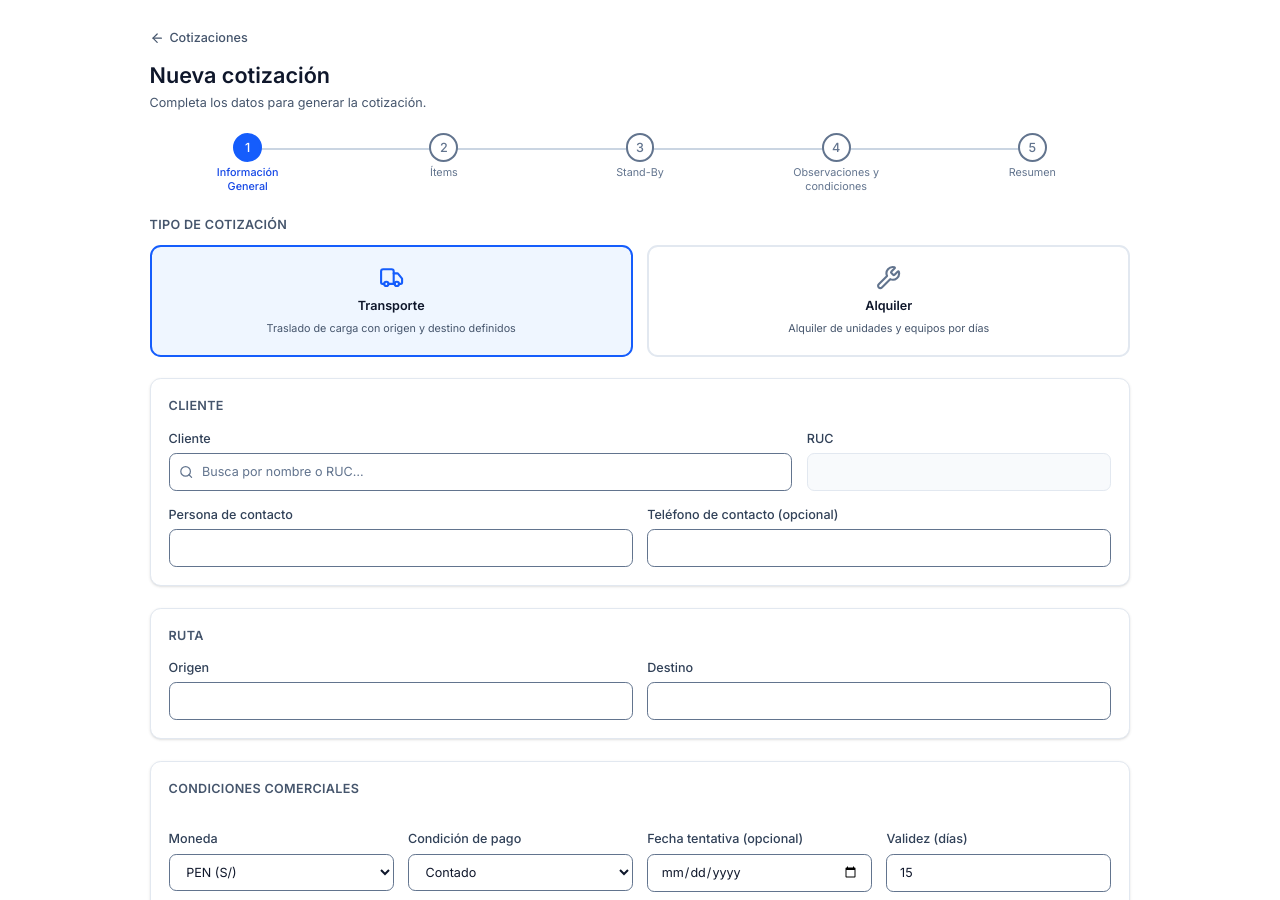
CotizacionWizardPage › al seleccionar un cliente precarga el contacto
This screenshot has width=1280, height=900.
Type "acme" into the dropdown labelled "Cliente".
click(480, 472); type("acme")  # box [169,453,792,491]
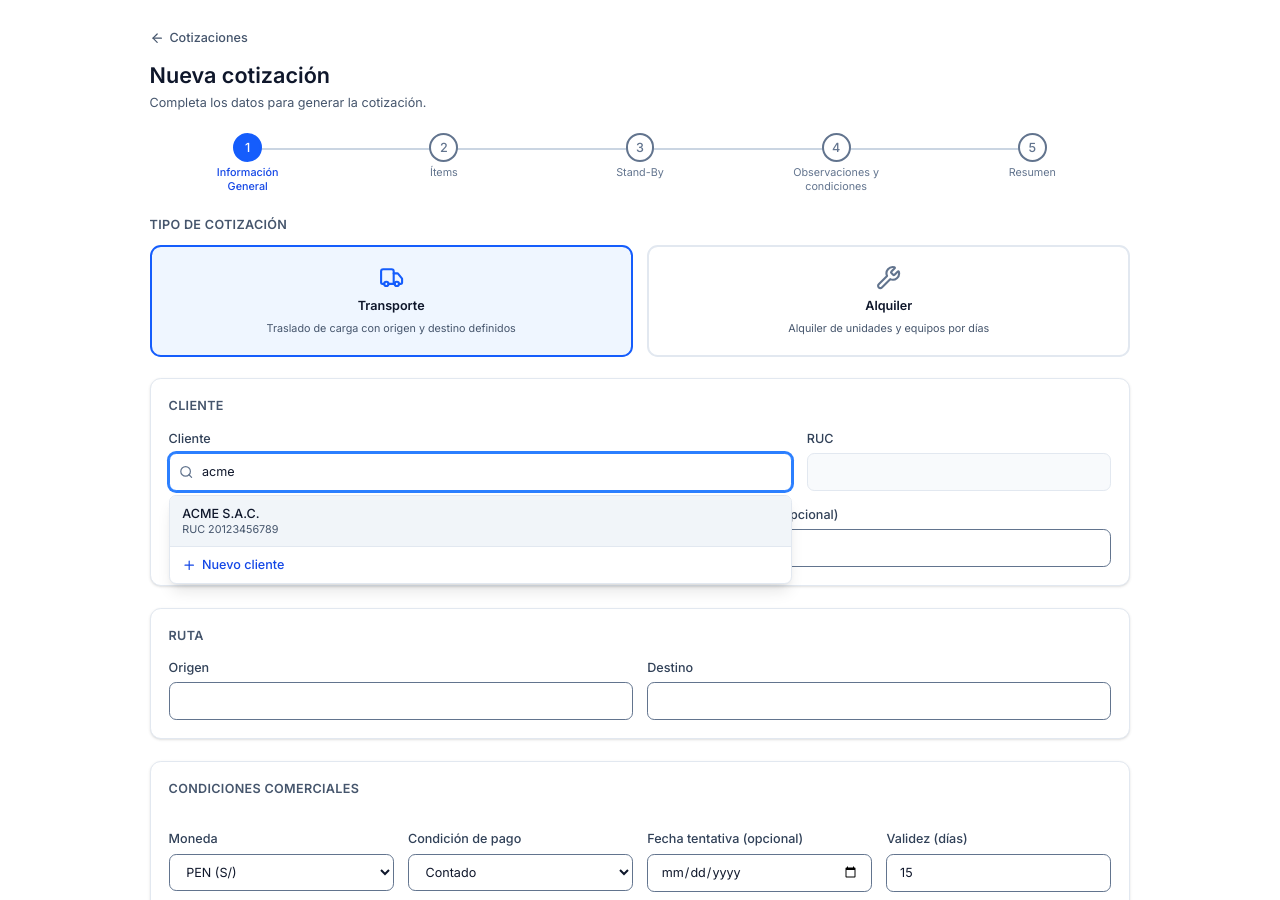
Click the text "ACME S.A.C.".
click(221, 513)  # box [182,506,260,521]
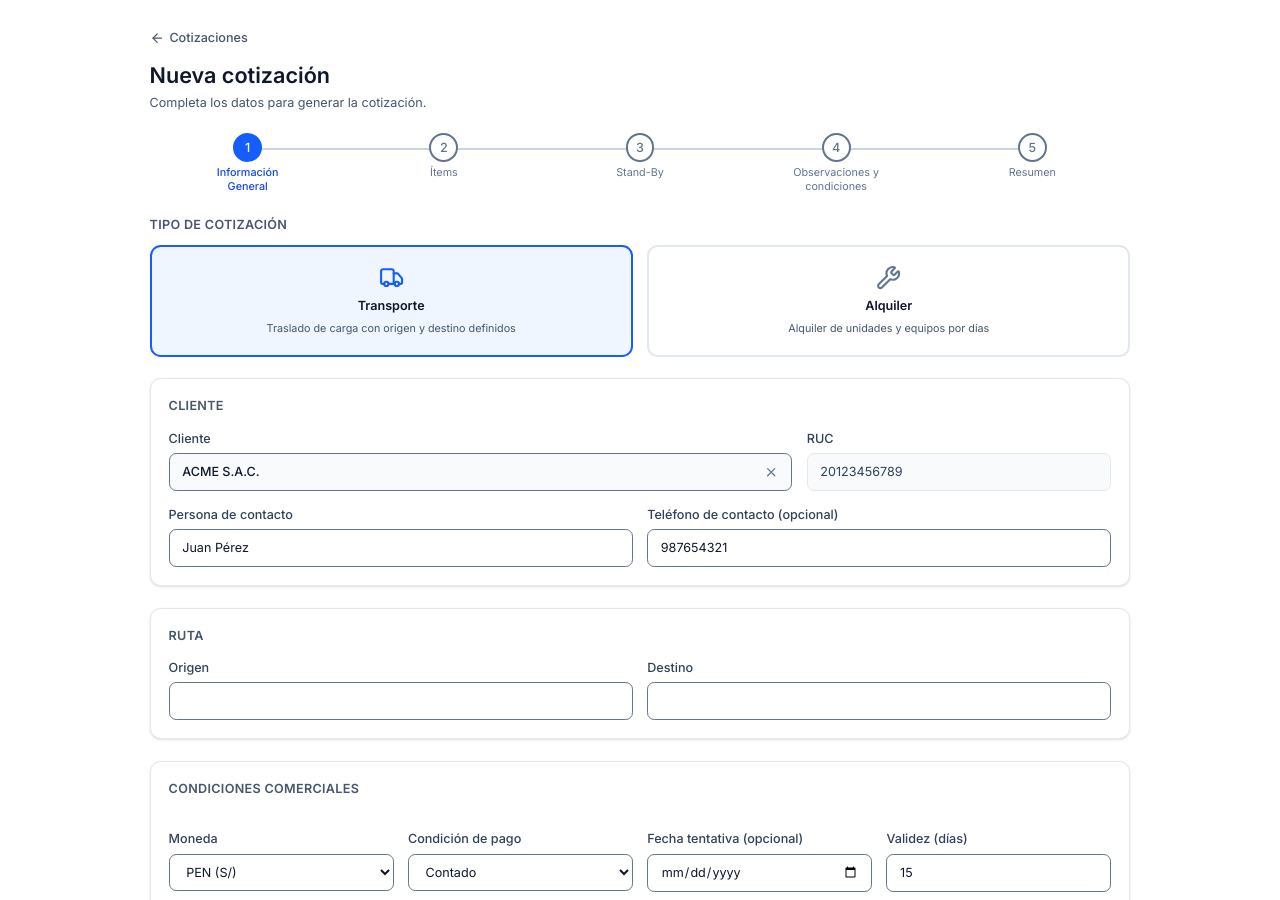
Now the field labelled "Persona de contacto" holds "Juan Pérez", box [169,529,633,567]
Now the field labelled "Teléfono de contacto (opcional)" holds "987654321", box [647,529,1111,567]
